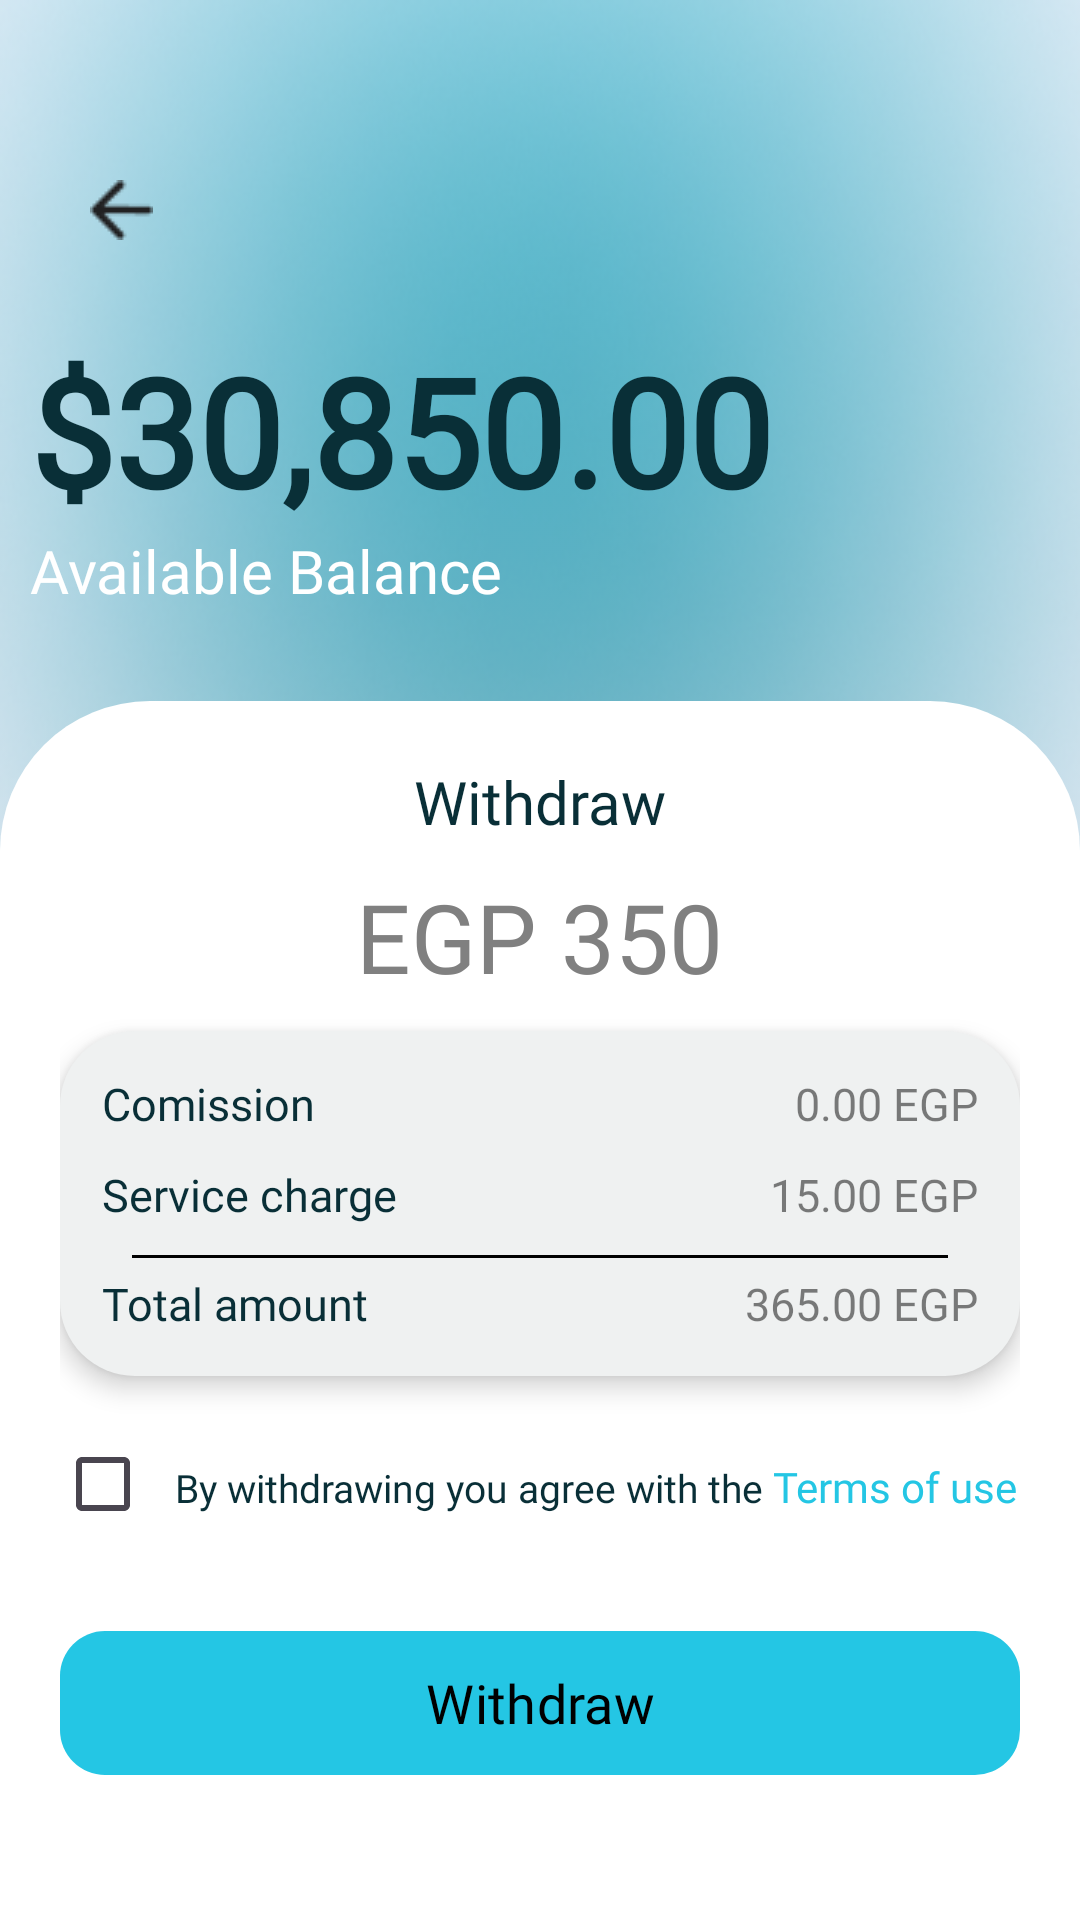

Screen size 1080px x 1920px. Icon name, then its center in pixels as (x,y):
back: (121,210)
